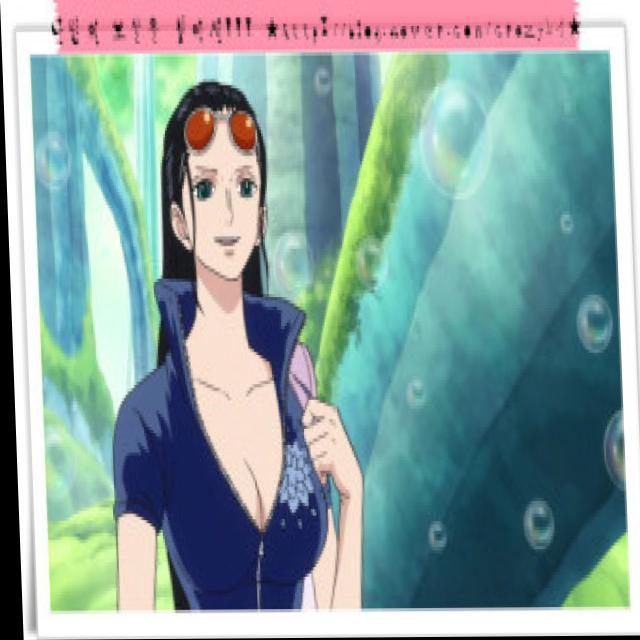NicoRobin: (150, 75, 280, 299)
